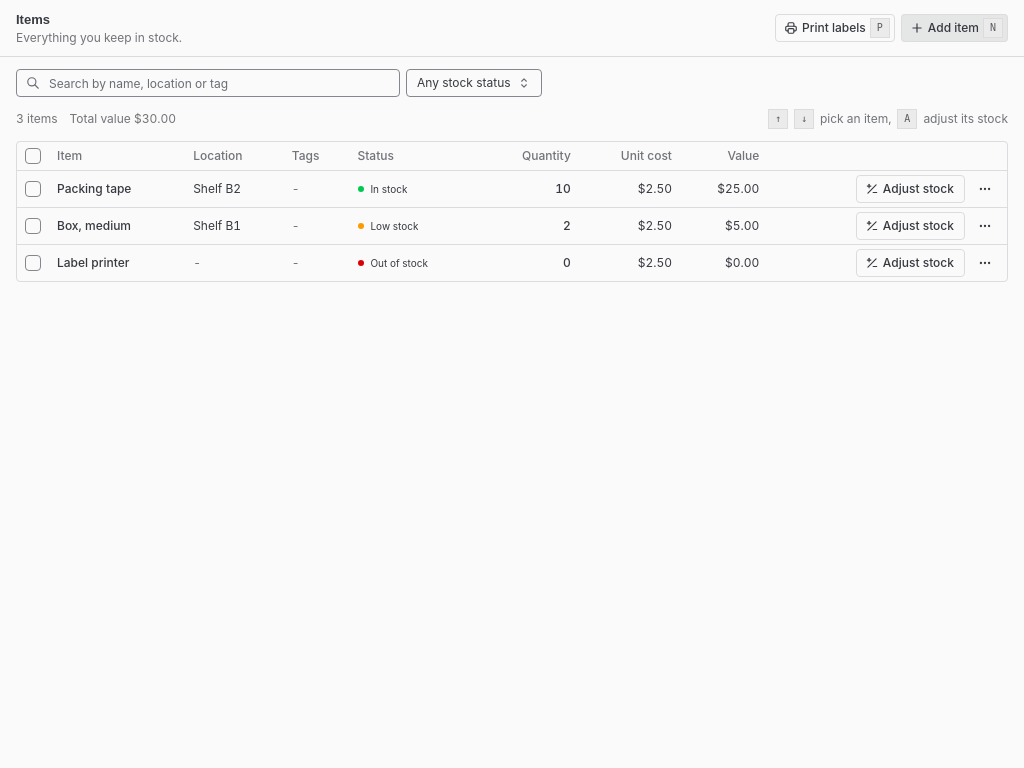
Scenario: ItemsPage › refuses to remove more stock than the item has
Later steps or results of the test are not shown.
Click the button with aria-label "Adjust stock for Box, medium" at coordinates (910, 226), box [856,212,965,240]
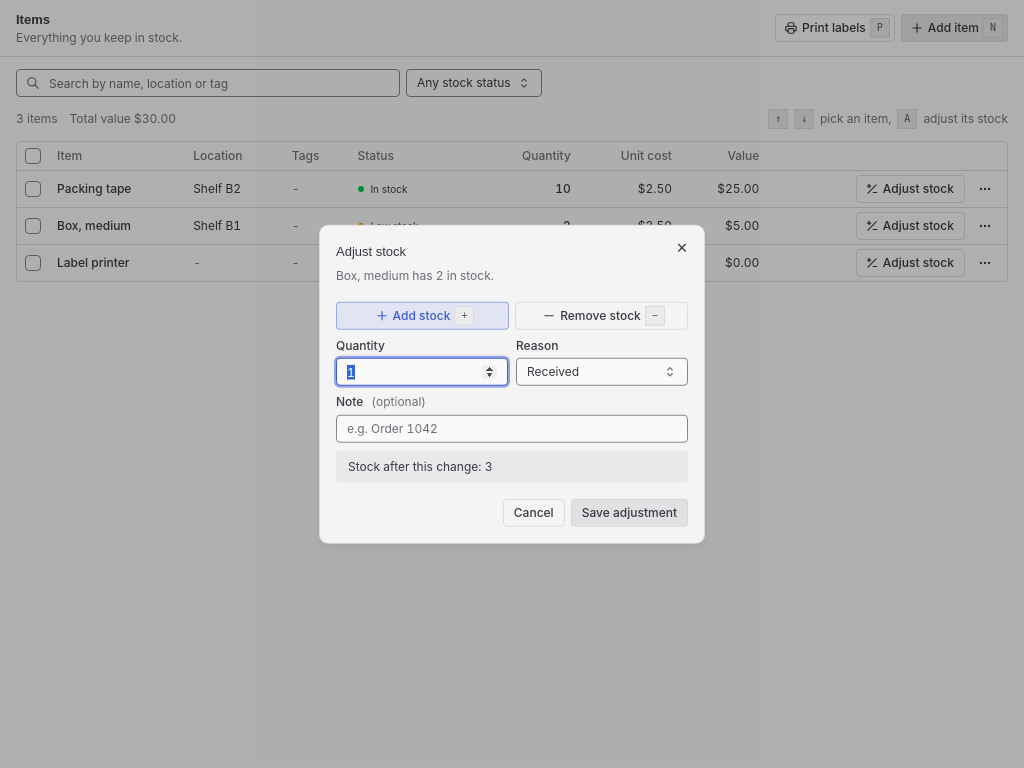
Click the button "Remove stock −" at coordinates (602, 315), box [515,301,688,329]
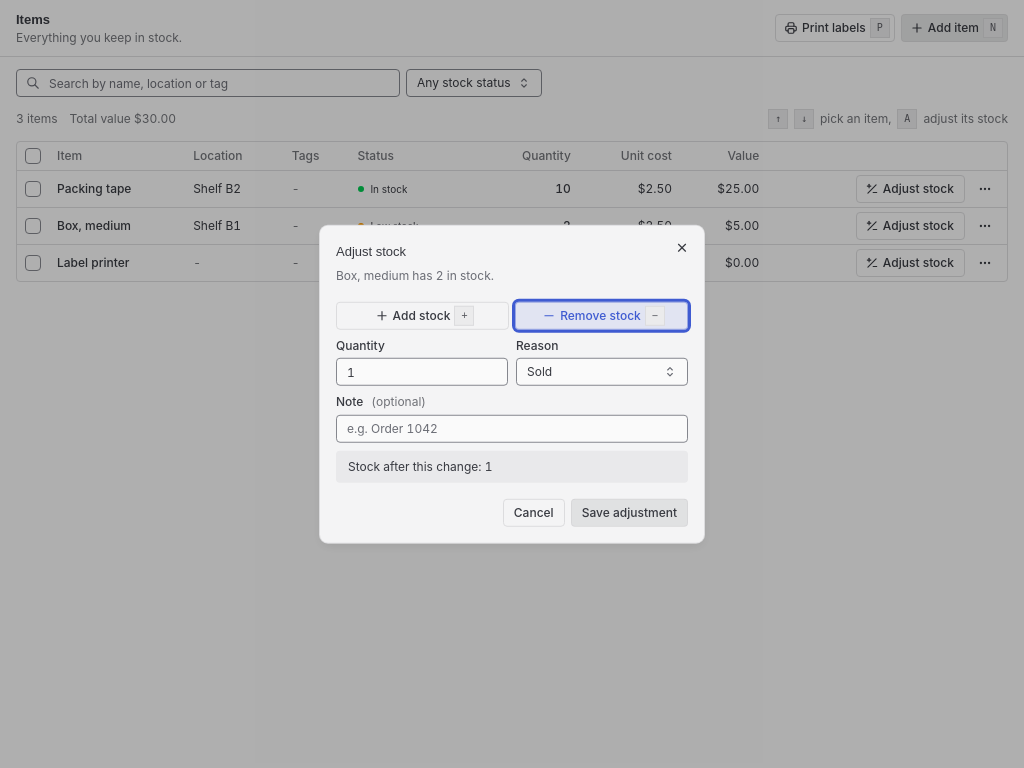
Clear the number field labelled "Quantity" at coordinates (422, 372), box [336,358,508,386]
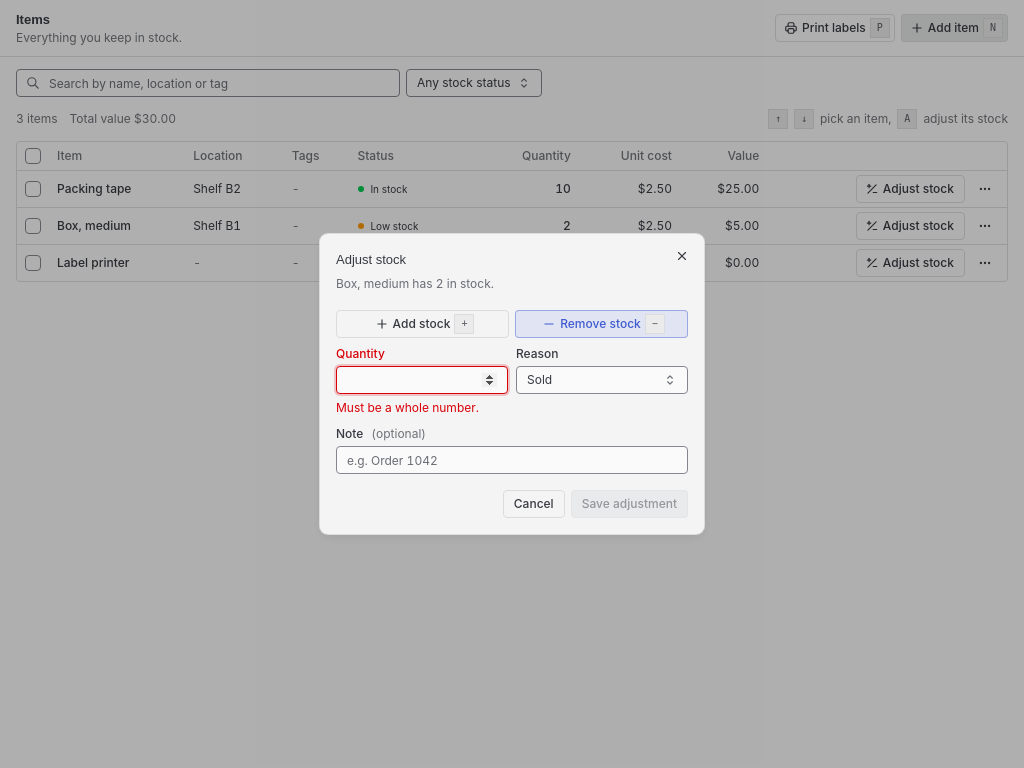
Type "5" into the number field labelled "Quantity" at coordinates (422, 380), box [336,366,508,394]
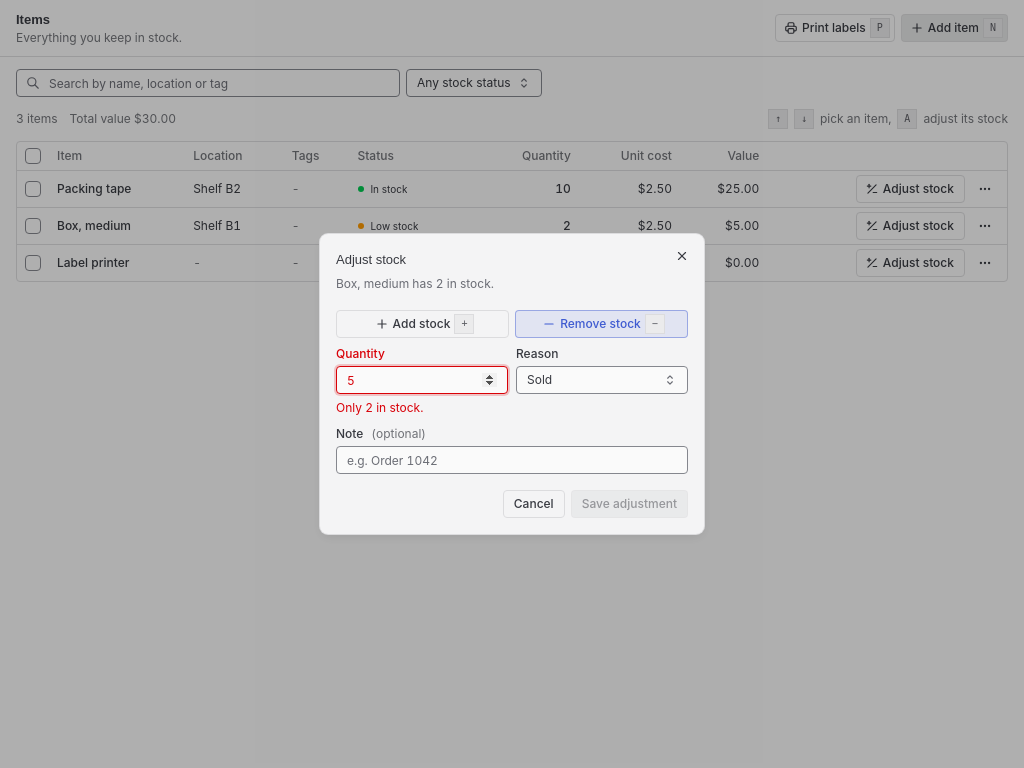
Now the button "Save adjustment" is disabled, box [571,490,688,518]
Now the text "Only 2 in stock." is shown, box [336,400,423,415]
Replace the text in the number field labelled "Quantity" with "2" at coordinates (422, 380), box [336,366,508,394]
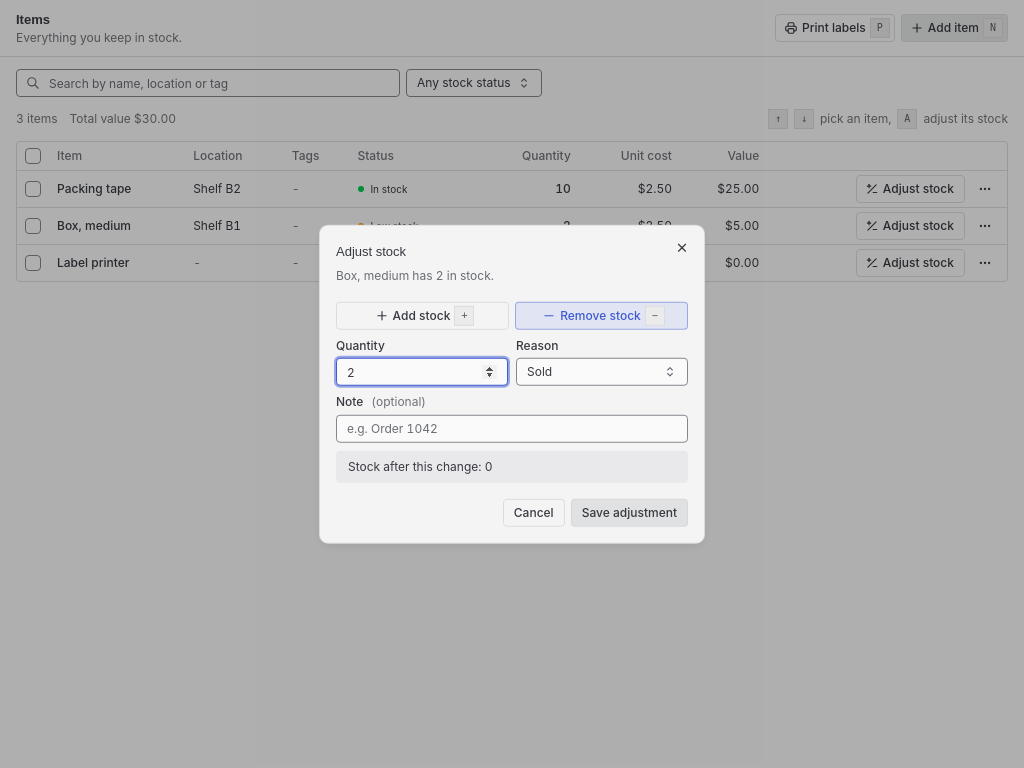
Now the button "Save adjustment" is enabled, box [571,498,688,526]
